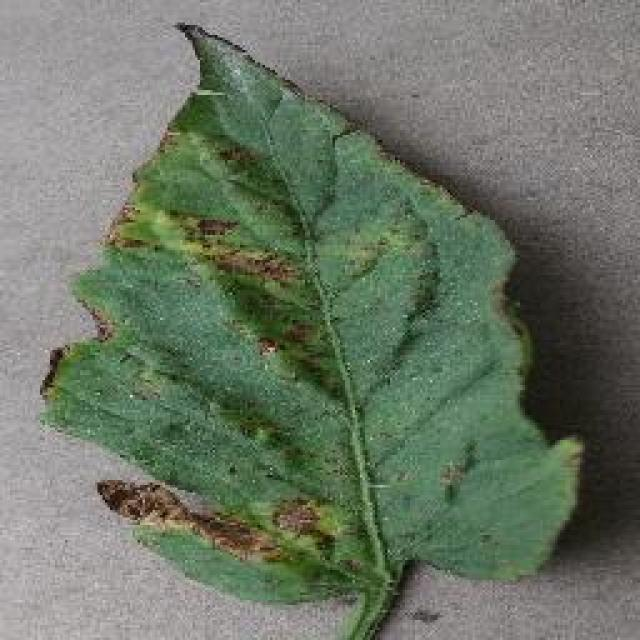Tomato___Bacterial_spot: (31, 23, 587, 638)
